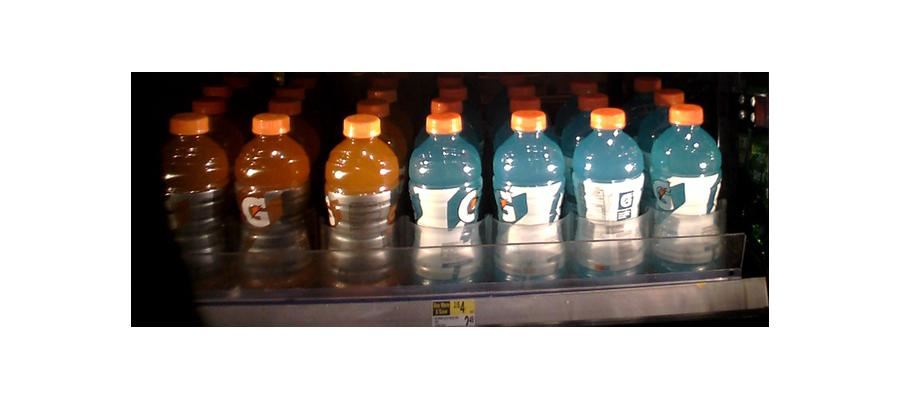bottle: (321, 113, 399, 295), (235, 109, 310, 297), (409, 107, 484, 293), (647, 105, 725, 279), (493, 106, 566, 290), (571, 107, 646, 286), (159, 112, 227, 291)
